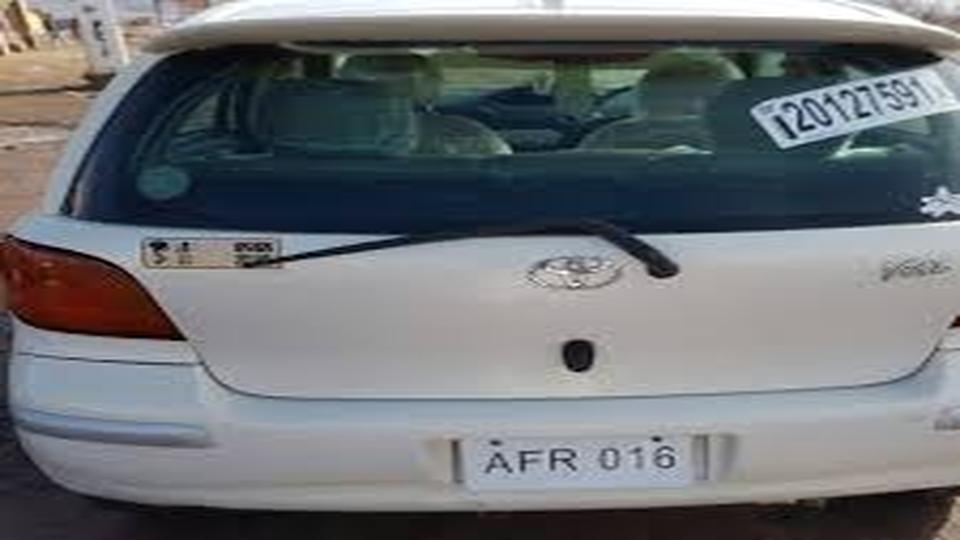NumberPlate: (450, 427, 722, 487)
